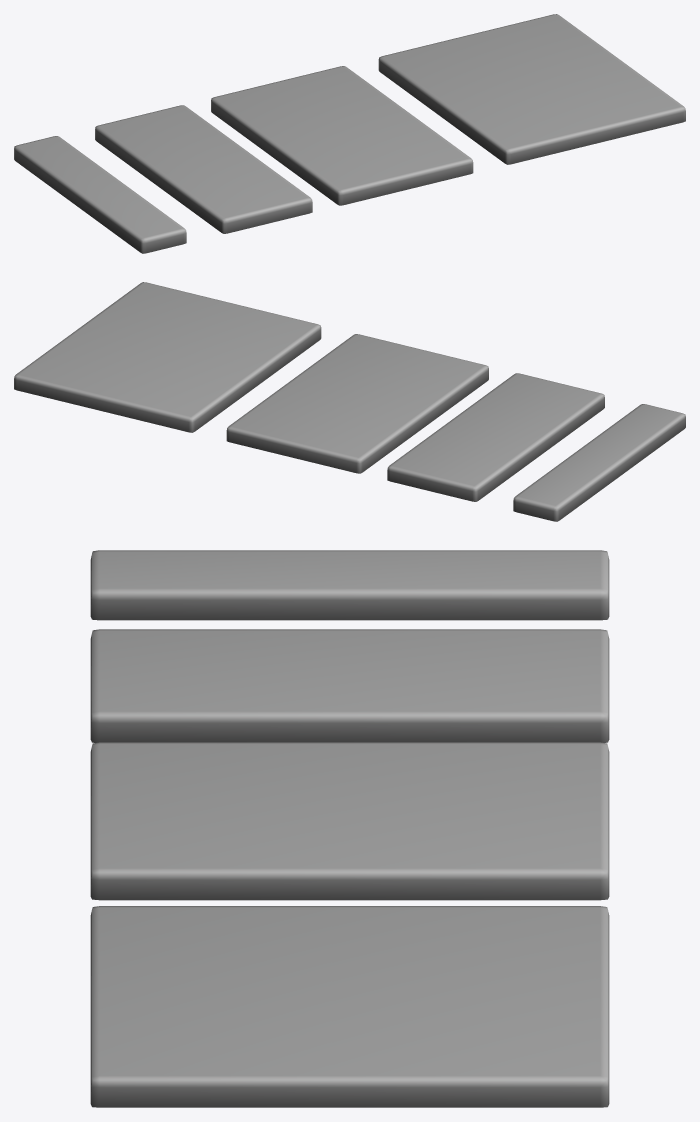
File: Ground_5m.fbx
3 views of the same model, one above another, from view 1: azimuth 30°, elevation 25°; view 2: azimuth 150°, elevation 25°; view 3: azimuth 270°, elevation 25° (orthographic). The views are drawn at different scales.
Parts seen in each view (by area): view 1: 4x5 Ground, 3x5 Ground, 2x5 Ground, 1x5 Ground; view 2: 4x5 Ground, 3x5 Ground, 2x5 Ground, 1x5 Ground; view 3: 4x5 Ground, 3x5 Ground, 2x5 Ground, 1x5 Ground.
Part boxes in pixels (<box>): 4x5 Ground: <box>378,14,685,164</box>; 3x5 Ground: <box>211,66,473,205</box>; 2x5 Ground: <box>95,105,312,233</box>; 1x5 Ground: <box>14,136,186,253</box>; 4x5 Ground: <box>14,282,321,432</box>; 3x5 Ground: <box>226,334,488,473</box>; 2x5 Ground: <box>387,373,604,501</box>; 1x5 Ground: <box>513,404,685,521</box>; 4x5 Ground: <box>90,906,609,1107</box>; 3x5 Ground: <box>90,742,609,900</box>; 2x5 Ground: <box>90,629,609,742</box>; 1x5 Ground: <box>90,550,609,620</box>.
Bounding box in the file's own units: 1212 × 30 × 500.
